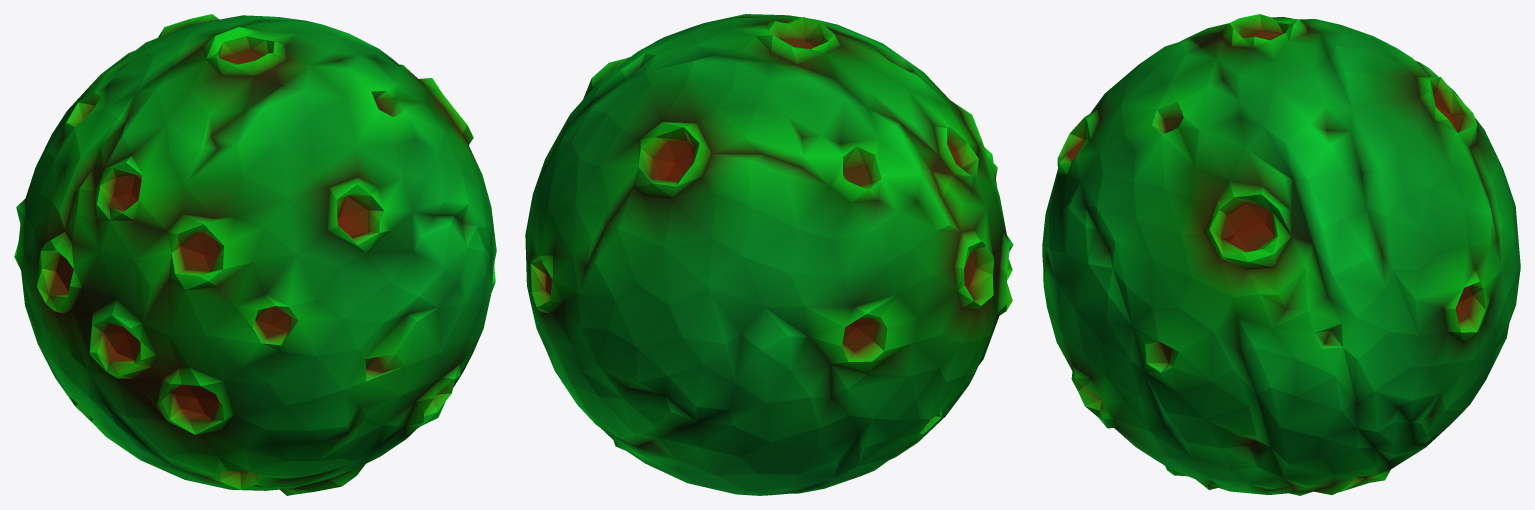
Rendered from moon37.fbx.
3 renders of one model, left to right at view 1: azimuth 30°, elevation 25°; view 2: azimuth 150°, elevation 25°; view 3: azimuth 270°, elevation 25°, orthographic.
Visible parts, largest first — view 1: attribblur1; view 2: attribblur1; view 3: attribblur1.
Part boxes in pixels (x1,y1,x2,y2): attribblur1: (14, 14, 496, 495); attribblur1: (525, 14, 1013, 495); attribblur1: (1042, 14, 1520, 495).
Bounding box in the file's own units: 1.05 × 1.06 × 1.03.
